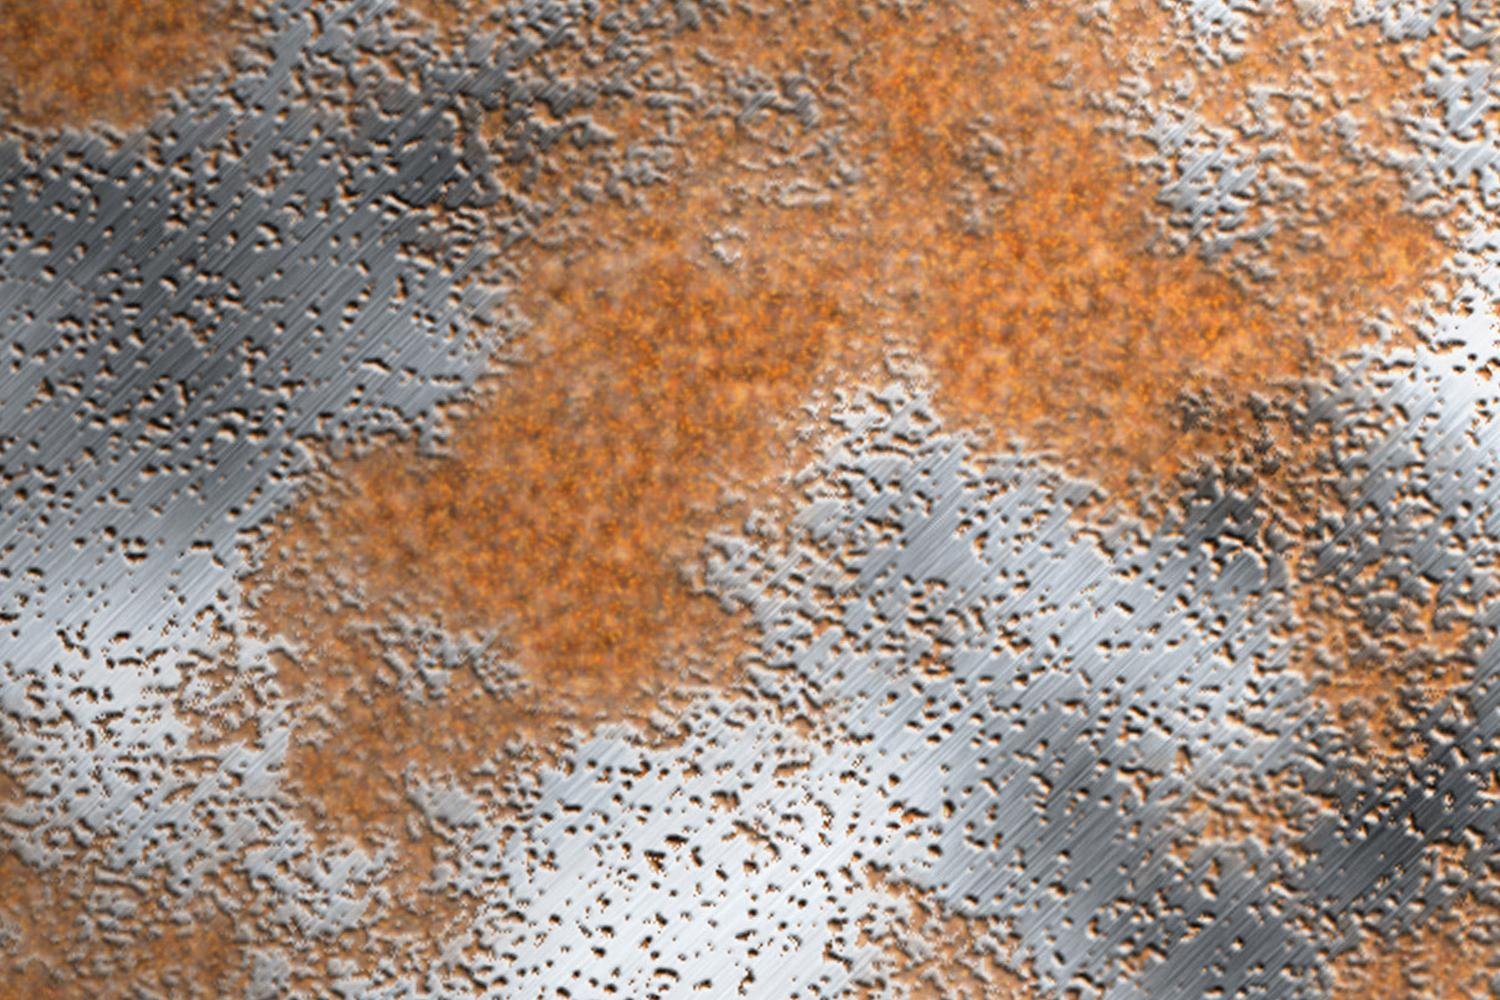rust: (229, 242, 753, 818), (811, 10, 1425, 478), (1, 9, 278, 136)
